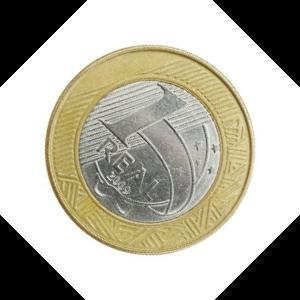1 real: (44, 43, 254, 255)
